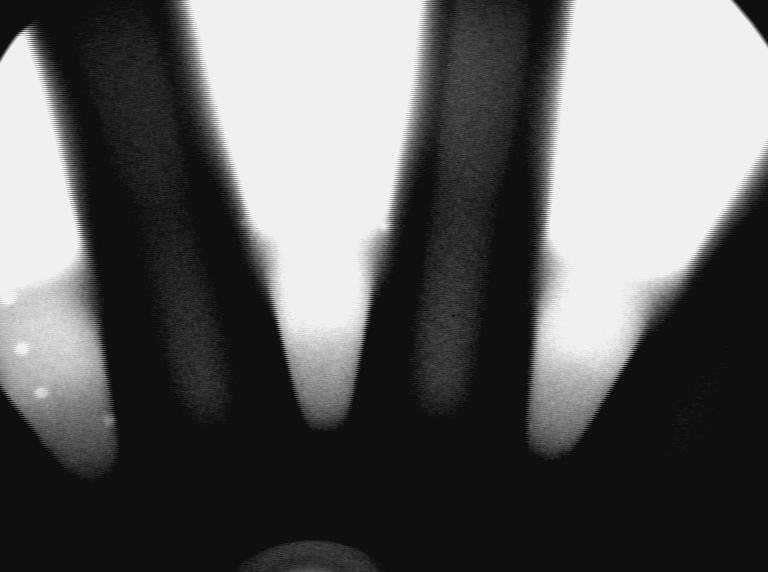defect: (3, 287, 20, 309)
